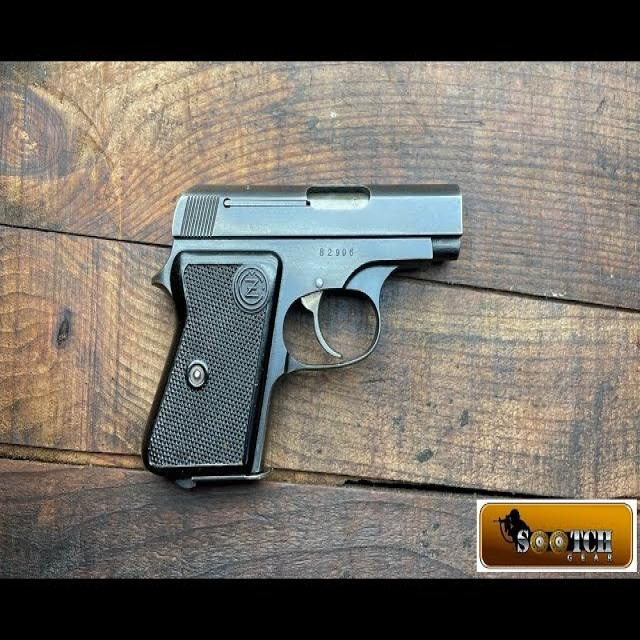HandGun: (142, 183, 464, 492)
